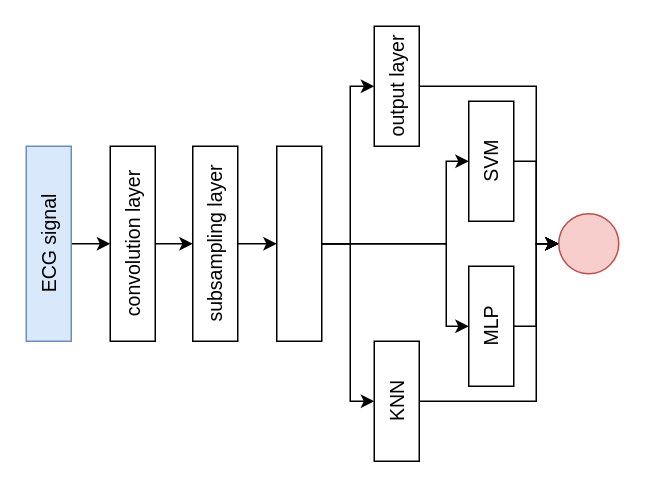
This 645x488 diagram has some shape labels left out. The shapes that lost their labels are listed below. From the top down, each one's centre as x and y in pixels, then its label:
At pixel 298 243: "fully-connected layer".
At pixel 588 243: "output".
